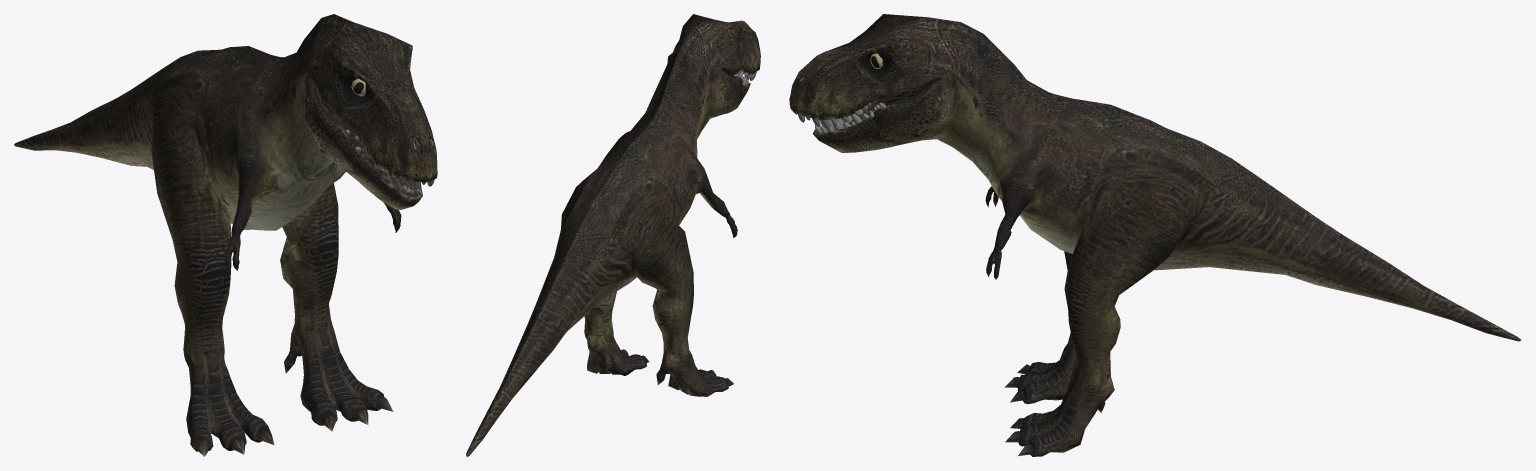
File: tina_rex.glb
The picture shows the model from 3 angles, left to right: view 1: azimuth 30°, elevation 25°; view 2: azimuth 150°, elevation 25°; view 3: azimuth 270°, elevation 25°; orthographic projection. The views are drawn at different scales.
Visible parts, largest first — view 1: Object_2; view 2: Object_2; view 3: Object_2.
Boxes of the visible parts, bbox=[...] form: Object_2: bbox=[14, 14, 437, 456]; Object_2: bbox=[466, 14, 760, 456]; Object_2: bbox=[789, 14, 1521, 456].
Bounding box in the file's own units: 2.72 × 6.04 × 9.99.
Materials: 1 (1 with a texture image).
